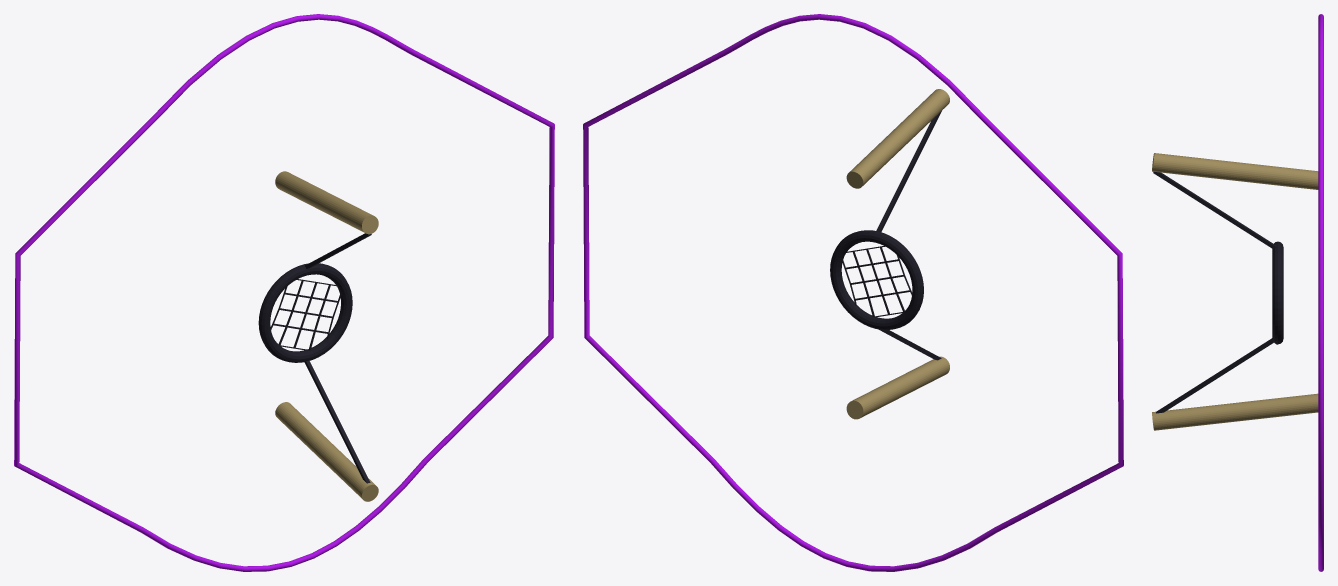
File: adanat-18984.glb
3 renders of one model, left to right at view 1: azimuth 30°, elevation 25°; view 2: azimuth 150°, elevation 25°; view 3: azimuth 270°, elevation 25°, orthographic. The views are drawn at different scales.
Parts seen in each view (by area): view 1: _outline.017, Torus, Cylinder.161, Cylinder.160, Plane.001, Cube.109; view 2: _outline.017, Torus, Cylinder.160, Cylinder.161, Plane.001, Cube.108; view 3: _outline.017, Cylinder.160, Cylinder.161, Torus, Cube.108, Cube.109.
Boxes of the visible parts, <box> form: _outline.017: <box>14,14,554,571</box>; Torus: <box>258,263,352,362</box>; Cylinder.161: <box>275,402,378,501</box>; Cylinder.160: <box>275,171,378,234</box>; Plane.001: <box>263,279,341,350</box>; Cube.109: <box>304,360,370,483</box>; _outline.017: <box>583,14,1123,571</box>; Torus: <box>830,230,923,329</box>; Cylinder.160: <box>846,89,949,188</box>; Cylinder.161: <box>846,356,949,419</box>; Plane.001: <box>842,246,919,317</box>; Cube.108: <box>876,111,941,231</box>; _outline.017: <box>1318,14,1323,571</box>; Cylinder.160: <box>1152,153,1318,189</box>; Cylinder.161: <box>1152,393,1318,430</box>; Torus: <box>1272,241,1283,344</box>; Cube.108: <box>1153,171,1276,249</box>; Cube.109: <box>1156,338,1273,413</box>.
Bounding box in the file's own units: 6.42 × 6.24 × 1.84.
